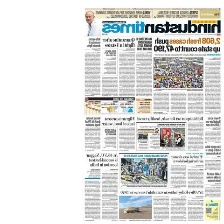news_paper: (83, 5, 223, 221)
